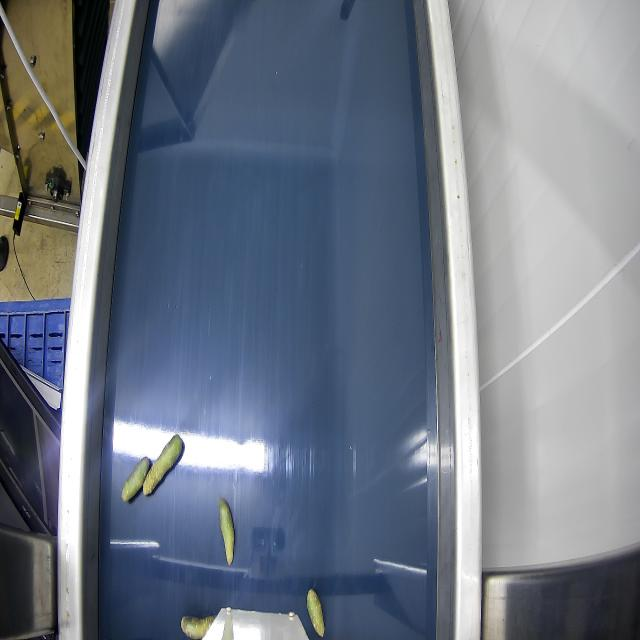Baby Potato: (144, 432, 187, 496), (213, 496, 237, 566), (121, 459, 151, 502), (182, 609, 212, 640), (305, 588, 324, 636)
